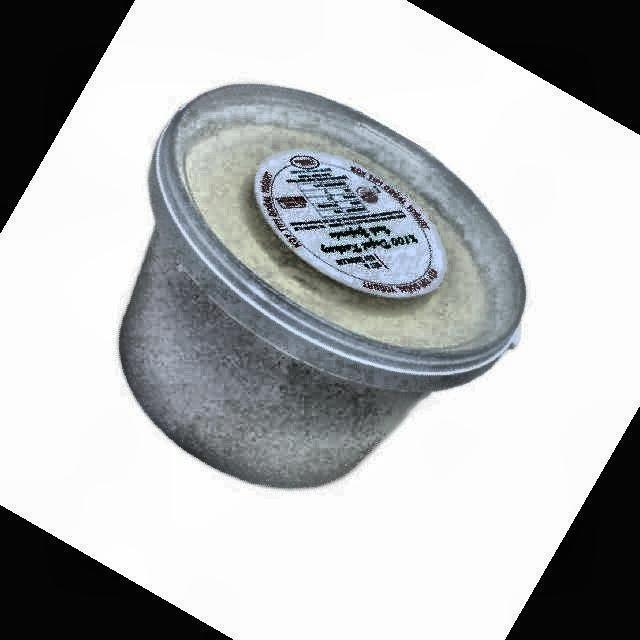plastic: (119, 85, 525, 488)
